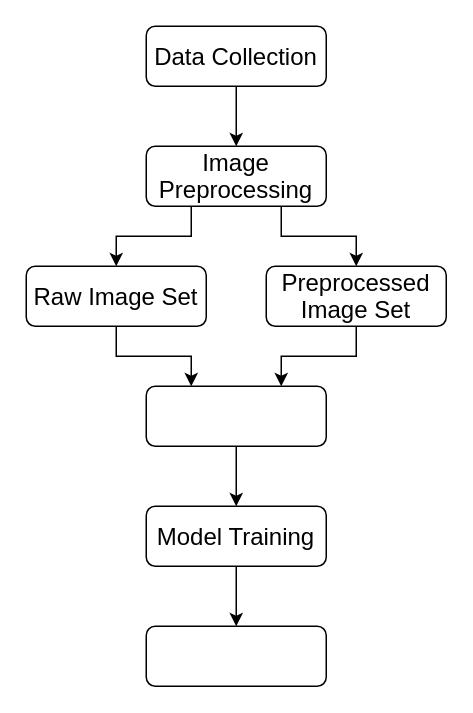
The diagram is 473 pixels wide and 713 high, and some of its shapes have lost their labels. Here are the shapes that lost their labels. From the top down, the box of each, then its label:
(145, 385, 326, 446): Transfer Learning Models
(145, 625, 326, 686): Model Evaluation
